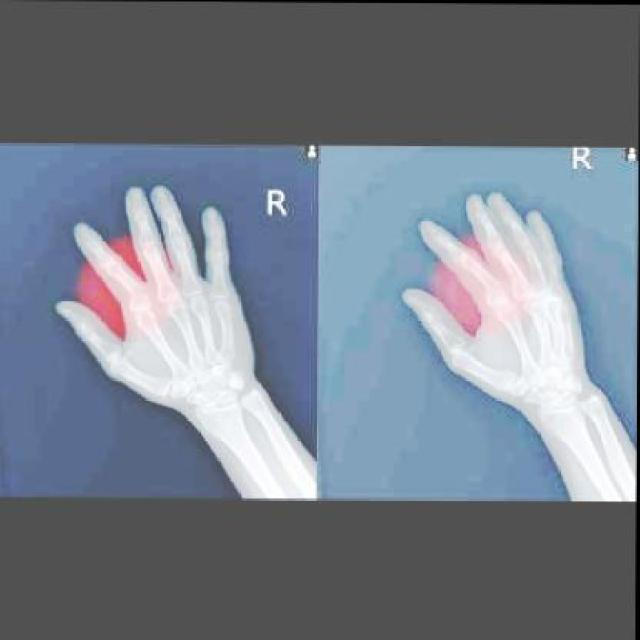Fracture: (478, 268, 508, 295), (123, 277, 148, 299)
